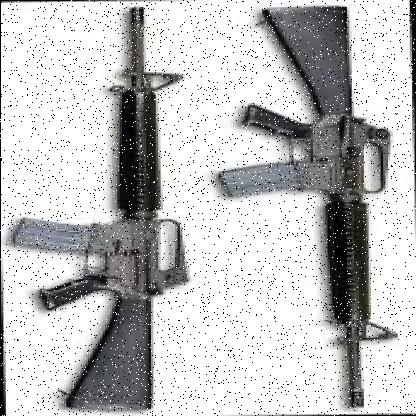rifle: (7, 7, 201, 416), (218, 6, 394, 410)
